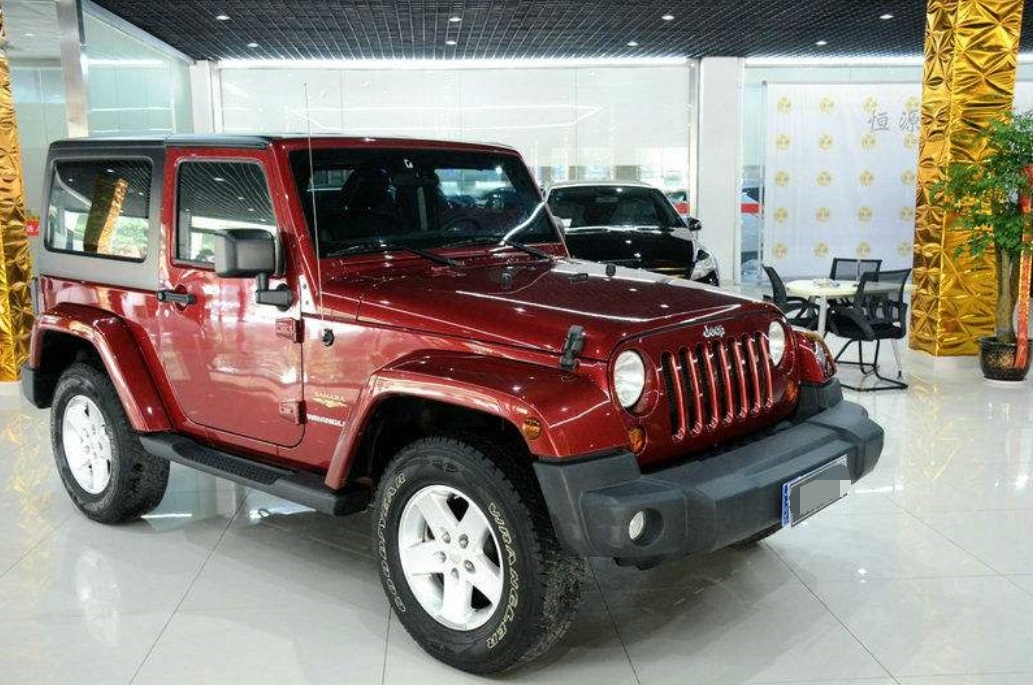jeep: (24, 117, 882, 652)
